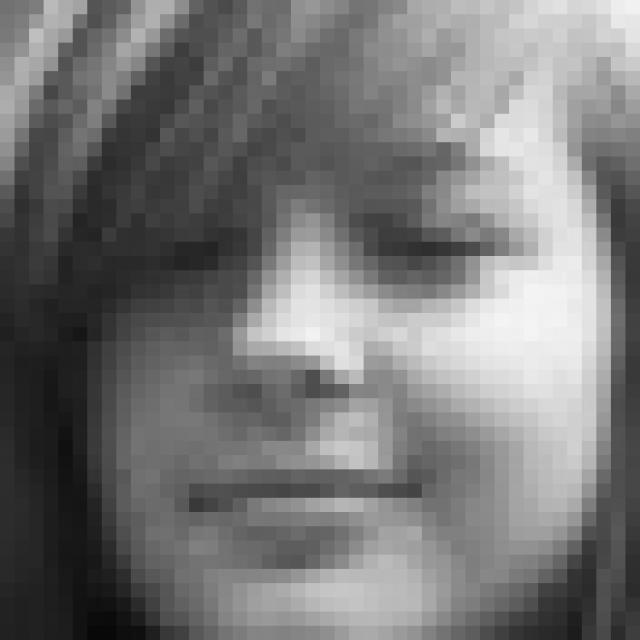real: (79, 3, 603, 584), (120, 162, 538, 286)
